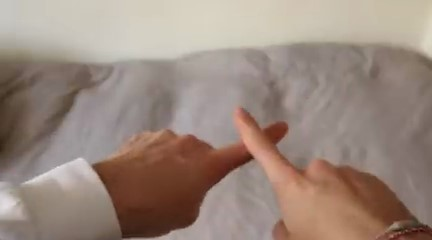X: (117, 88, 401, 240)
